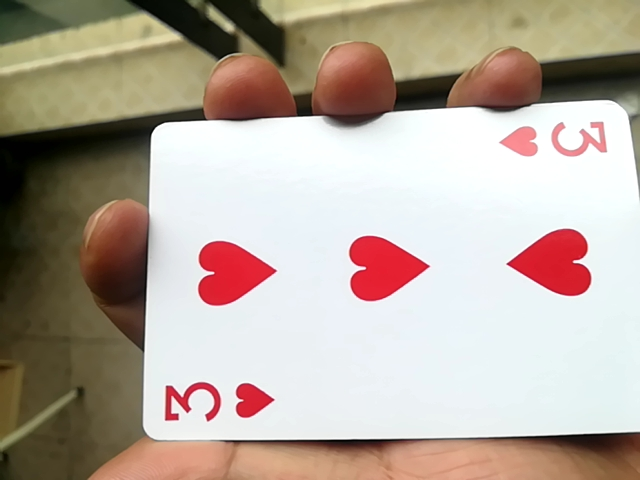hx 3: (129, 111, 635, 458)
